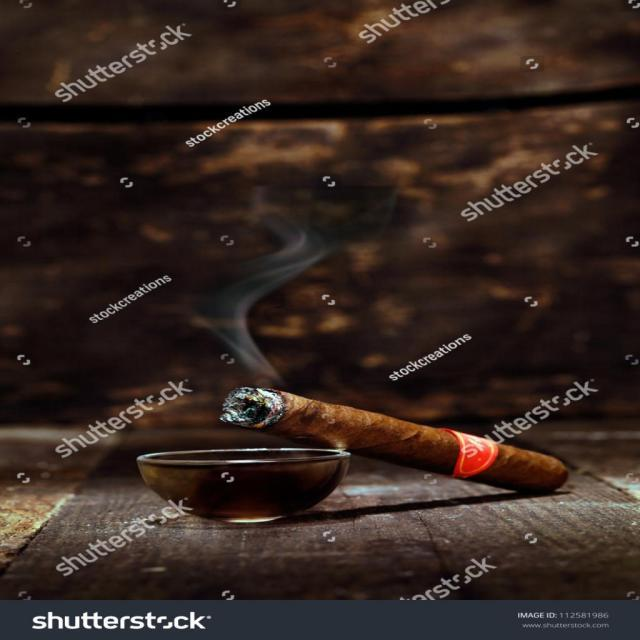smoking: (219, 380, 573, 504)
